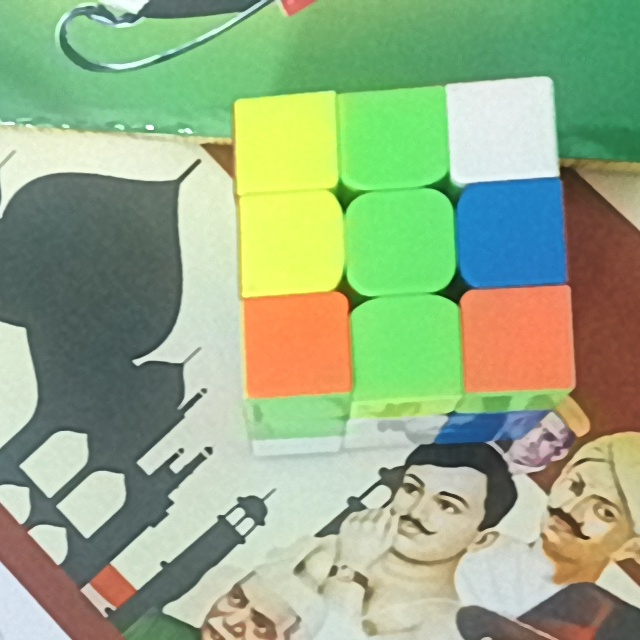tile: (450, 88, 552, 171), (472, 297, 569, 383), (466, 195, 560, 277), (243, 200, 332, 284), (251, 303, 343, 384), (354, 205, 444, 285), (346, 97, 437, 176), (362, 309, 451, 385), (239, 104, 329, 179)
